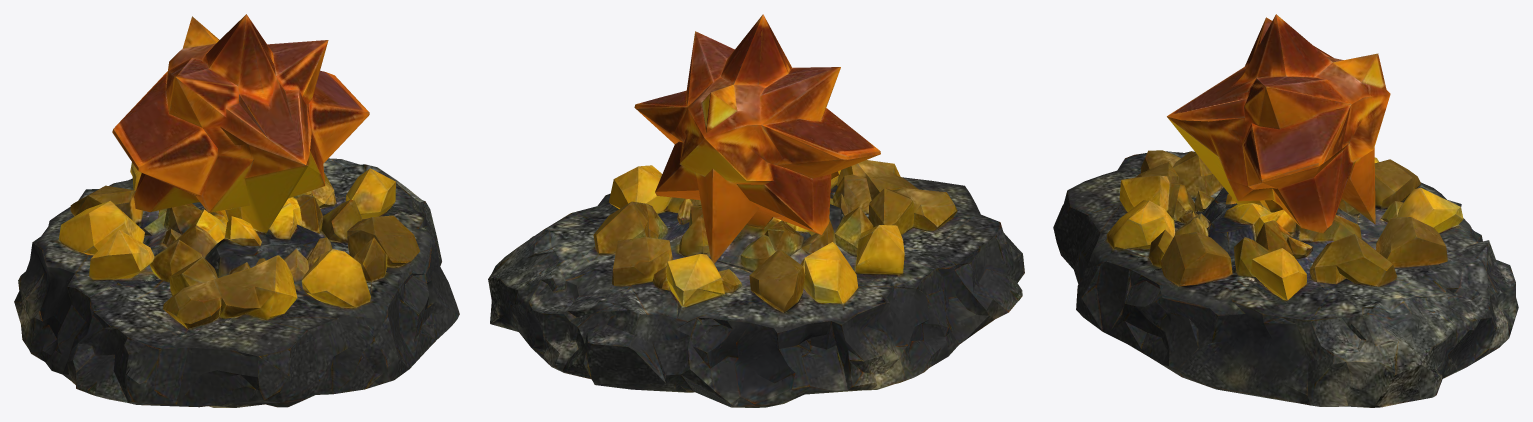
Rendered from helionite-ore.glb.
3 views of the same model, side by side, from view 1: azimuth 30°, elevation 25°; view 2: azimuth 150°, elevation 25°; view 3: azimuth 270°, elevation 25° (orthographic). The views are drawn at different scales.
Bounding box in the file's own units: 1.89 × 1.39 × 1.88.
1 material, 1 textured.
